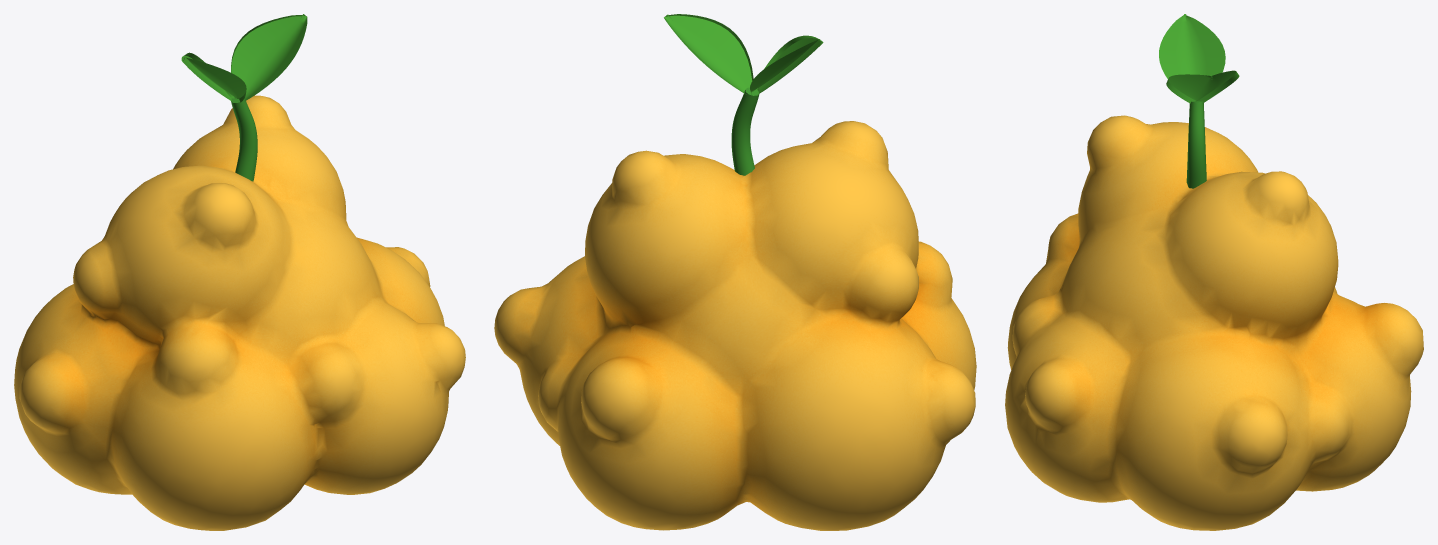
Rendered from golden_truffle.glb.
The picture shows the model from 3 angles, left to right: view 1: azimuth 30°, elevation 25°; view 2: azimuth 150°, elevation 25°; view 3: azimuth 270°, elevation 25°; orthographic projection. The views are drawn at different scales.
Parts seen in each view (by area): view 1: GoldenTruffle; view 2: GoldenTruffle; view 3: GoldenTruffle.
Boxes of the visible parts, x1,y1,x2,y2 form: GoldenTruffle: (14, 14, 465, 530); GoldenTruffle: (494, 14, 976, 530); GoldenTruffle: (1005, 14, 1423, 530).
Bounding box in the file's own units: 0.6 × 0.5735 × 0.5206.
Materials: 3 (1 with a texture image).
